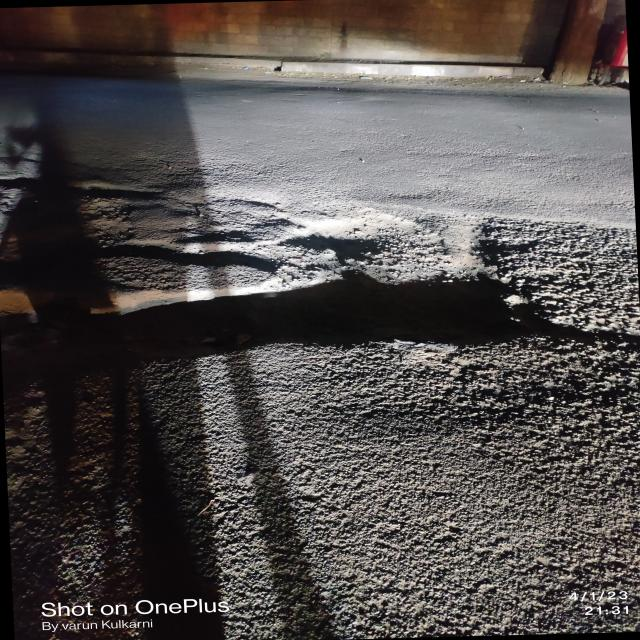potholes: (2, 172, 572, 351)
